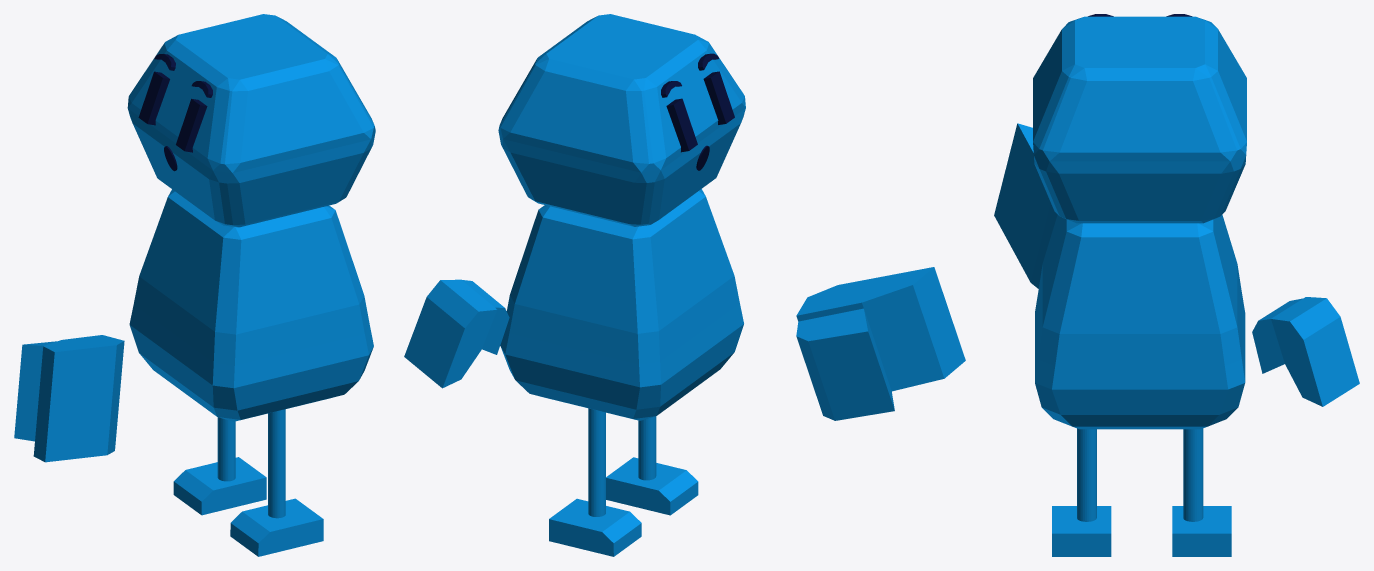
The model's file is player_blue_slap2.gltf.
3 renders of one model, left to right at view 1: azimuth 30°, elevation 25°; view 2: azimuth 150°, elevation 25°; view 3: azimuth 270°, elevation 25°, orthographic. The views are drawn at different scales.
Parts seen in each view (by area): view 1: body.001, head.001, hand right.001, foot right.001, foot left.001, leg right.001, leg left.001, Cube.005, Cube.004; view 2: body.001, head.001, hand right.001, hand left.001, foot left.001, foot right.001, leg left.001, leg right.001, Cube.005, Cube.004; view 3: body.001, head.001, hand left.001, hand right.001, foot left.001, foot right.001, leg left.001, leg right.001.
Part boxes in pixels (x1,y1,x2,y2): body.001: (129,189,373,421); head.001: (127,14,375,227); hand right.001: (14,335,124,462); foot right.001: (230,498,323,556); foot left.001: (173,457,266,515); leg right.001: (268,409,285,518); leg left.001: (217,417,235,481); Cube.005: (138,71,169,125); Cube.004: (176,98,207,152); body.001: (500,189,743,420); head.001: (498,14,745,226); hand right.001: (796,267,965,420); hand left.001: (404,279,509,388); foot left.001: (549,498,641,556); foot right.001: (606,457,698,515); leg left.001: (588,408,605,516); leg right.001: (638,416,656,480); Cube.005: (666,98,697,152); Cube.004: (703,71,734,124); body.001: (1035,214,1245,429); head.001: (1033,16,1246,223); hand left.001: (1252,297,1359,406); hand right.001: (994,123,1057,288); foot left.001: (1172,506,1231,556); foot right.001: (1052,506,1111,556); leg left.001: (1183,428,1203,521); leg right.001: (1077,428,1096,521).
Size of the model in its own units: 4.31 by 4.76 by 3.17.
